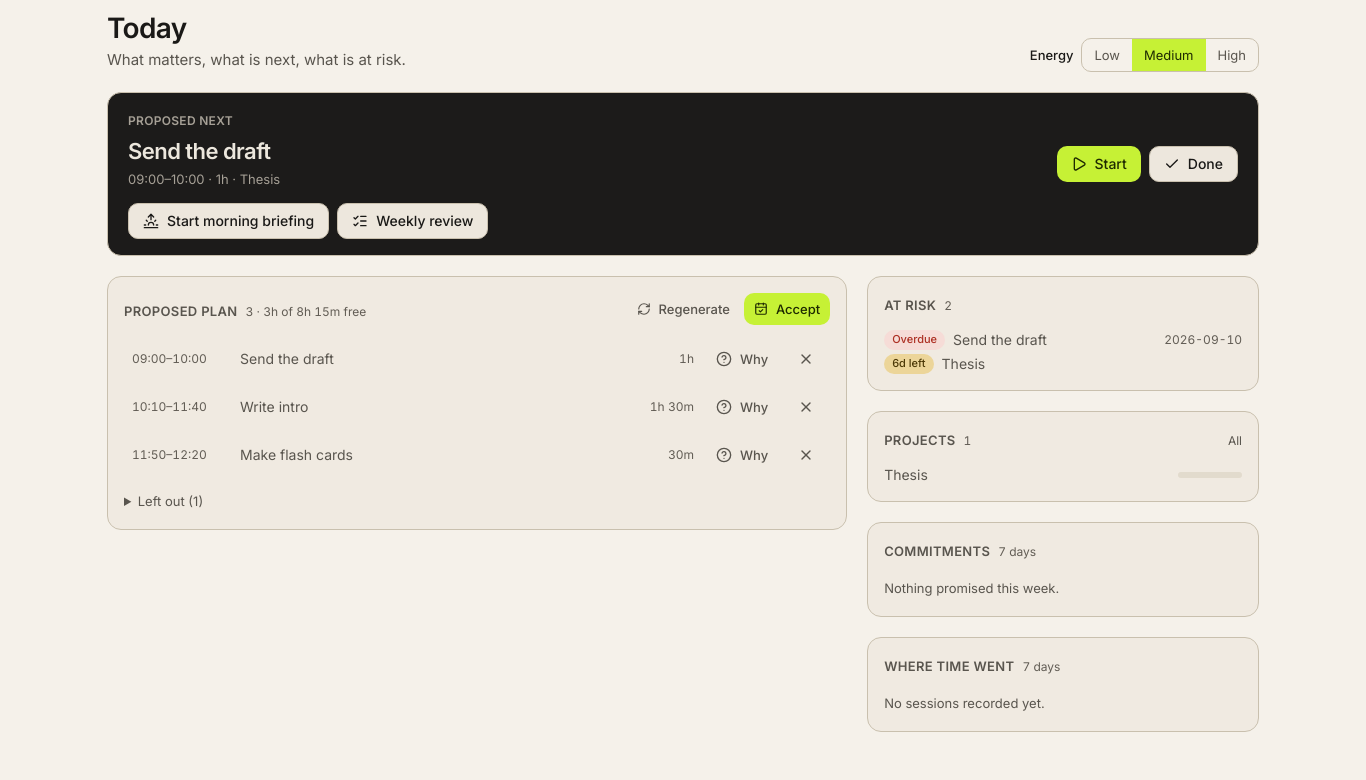
Scenario: TodayPage › offers the morning briefing until the plan is accepted
Expected: the element with test id "focus" is shown, [107, 92, 1259, 256]
Click the button "Accept" at (787, 309), box [744, 293, 830, 325]
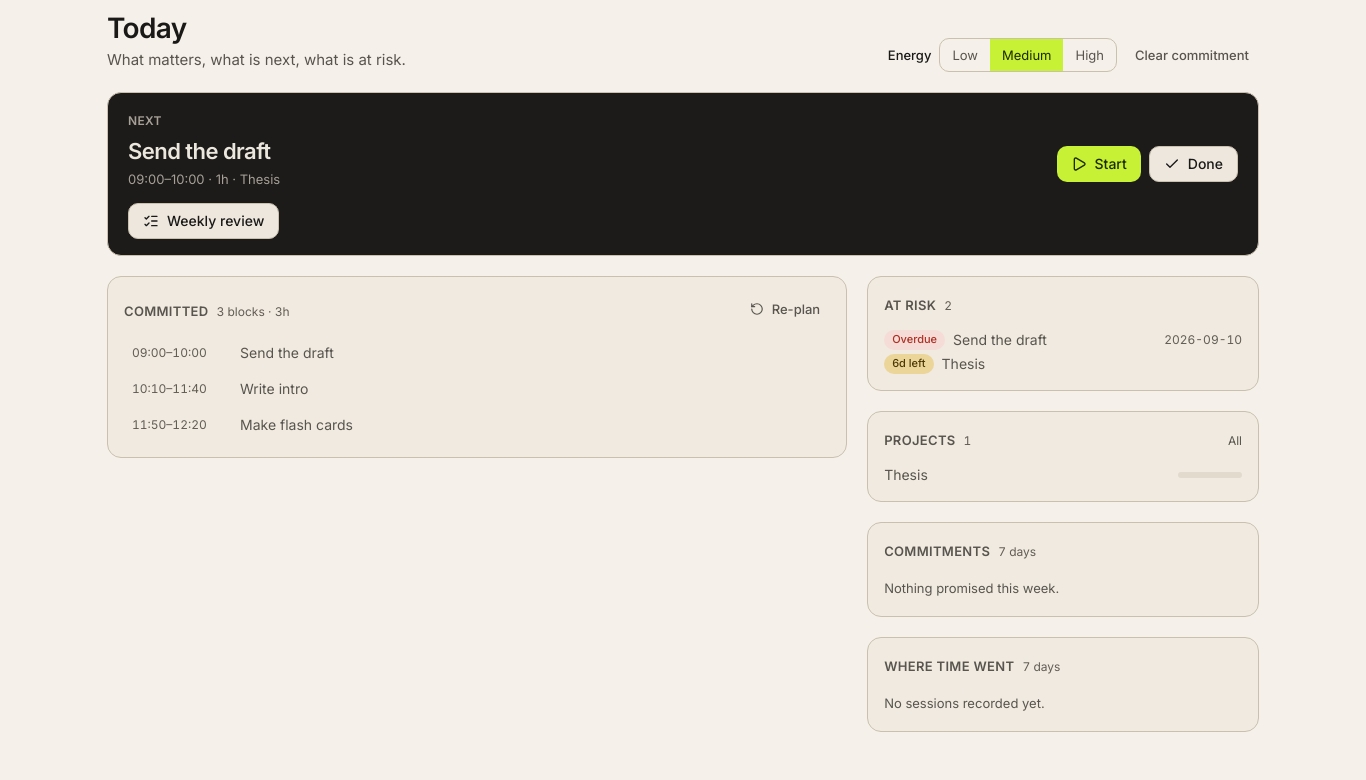
Now the link "Start morning briefing" is gone
